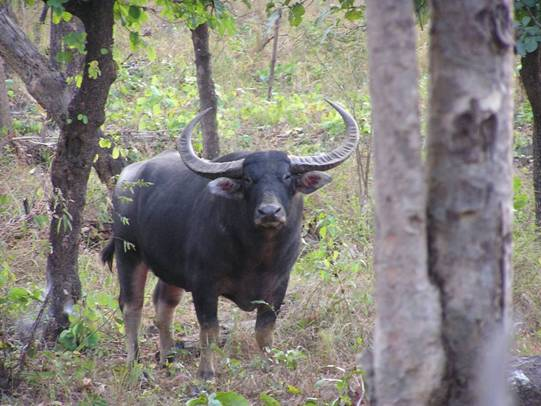buffalo: (107, 96, 359, 369)
